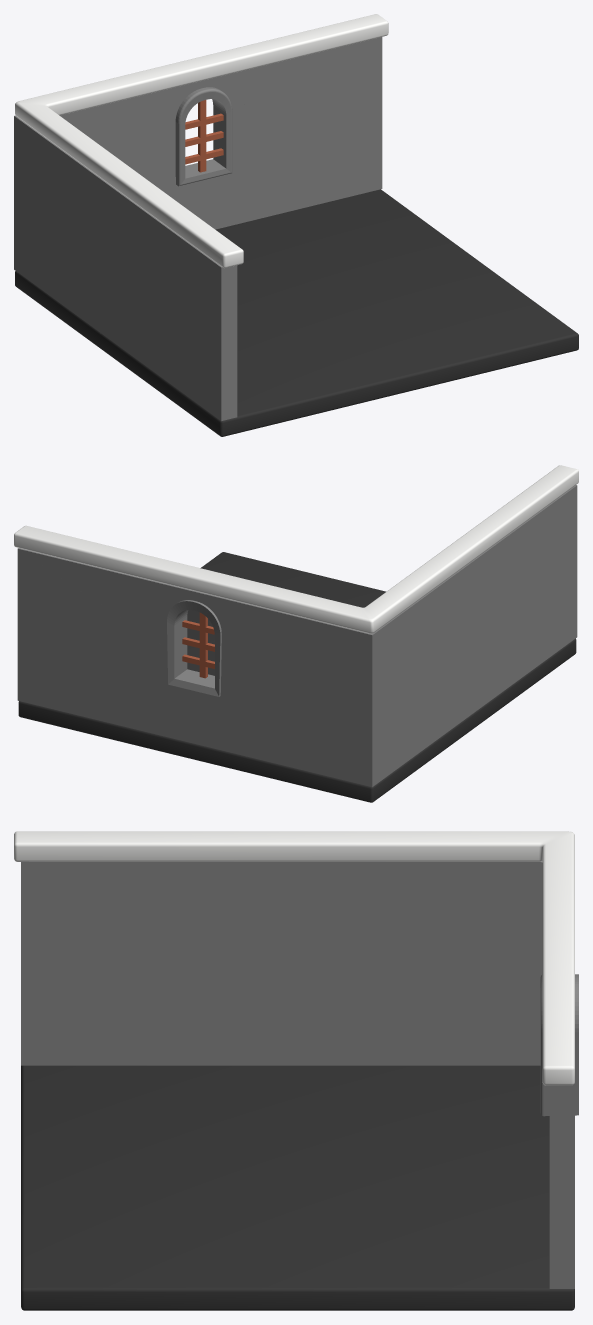
Rendered from Room.fbx.
3 renders of one model, top to bottom at view 1: azimuth 30°, elevation 25°; view 2: azimuth 150°, elevation 25°; view 3: azimuth 270°, elevation 25°, orthographic. The views are drawn at different scales.
Parts seen in each view (by area): view 1: WindowFrame, Room, Room_Wall_Finish; view 2: WindowFrame, Room_Wall_Finish, Room; view 3: Room, WindowFrame, Room_Wall_Finish.
Boxes of the visible parts, x1=… form: WindowFrame: x1=14, y1=37, x2=382, y2=421; Room: x1=15, y1=189, x2=578, y2=436; Room_Wall_Finish: x1=15, y1=14, x2=388, y2=267; WindowFrame: x1=17, y1=485, x2=577, y2=786; Room_Wall_Finish: x1=14, y1=465, x2=578, y2=633; Room: x1=18, y1=552, x2=576, y2=802; Room: x1=21, y1=1065, x2=574, y2=1310; WindowFrame: x1=21, y1=862, x2=578, y2=1288; Room_Wall_Finish: x1=14, y1=831, x2=574, y2=1085.
Bounding box in the file's own units: 784 × 382 × 790.
